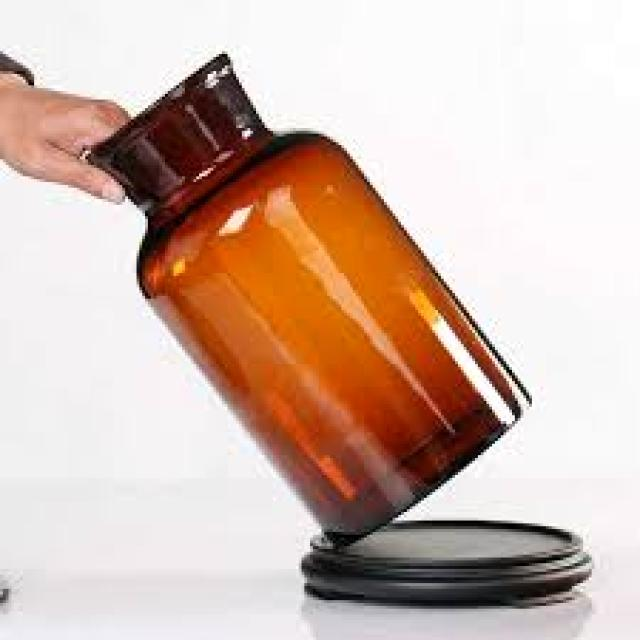Glass: (71, 42, 542, 558)
